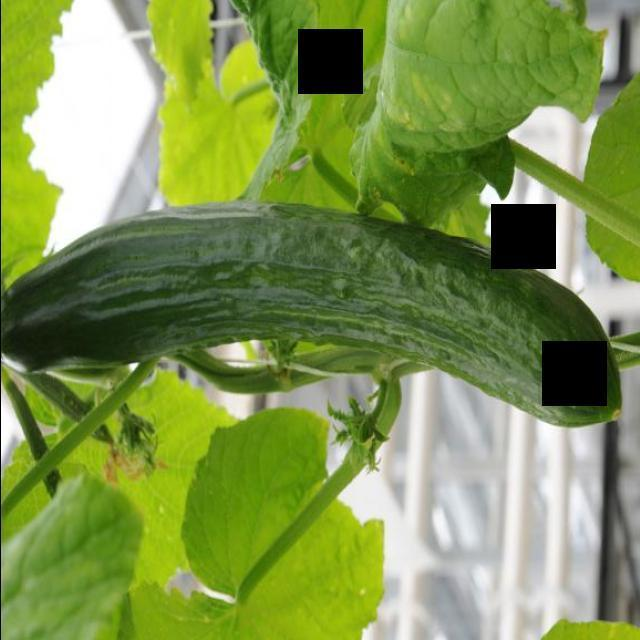cucumber: (0, 195, 626, 433)
